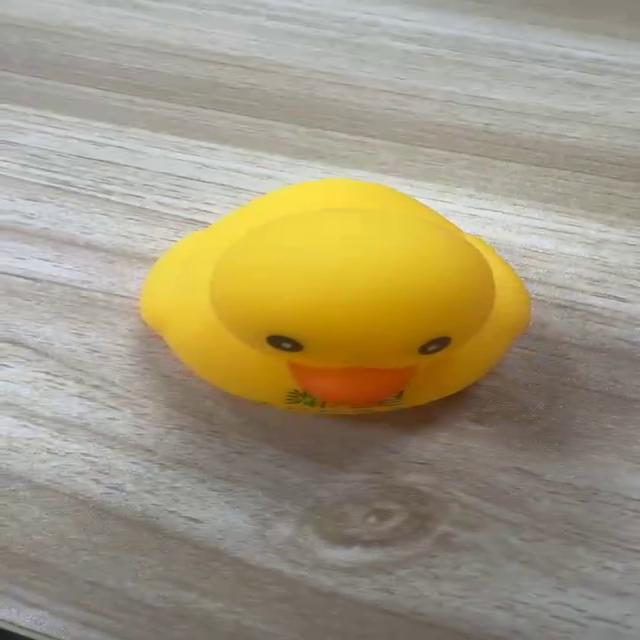yellow_duck: (136, 176, 532, 416)
